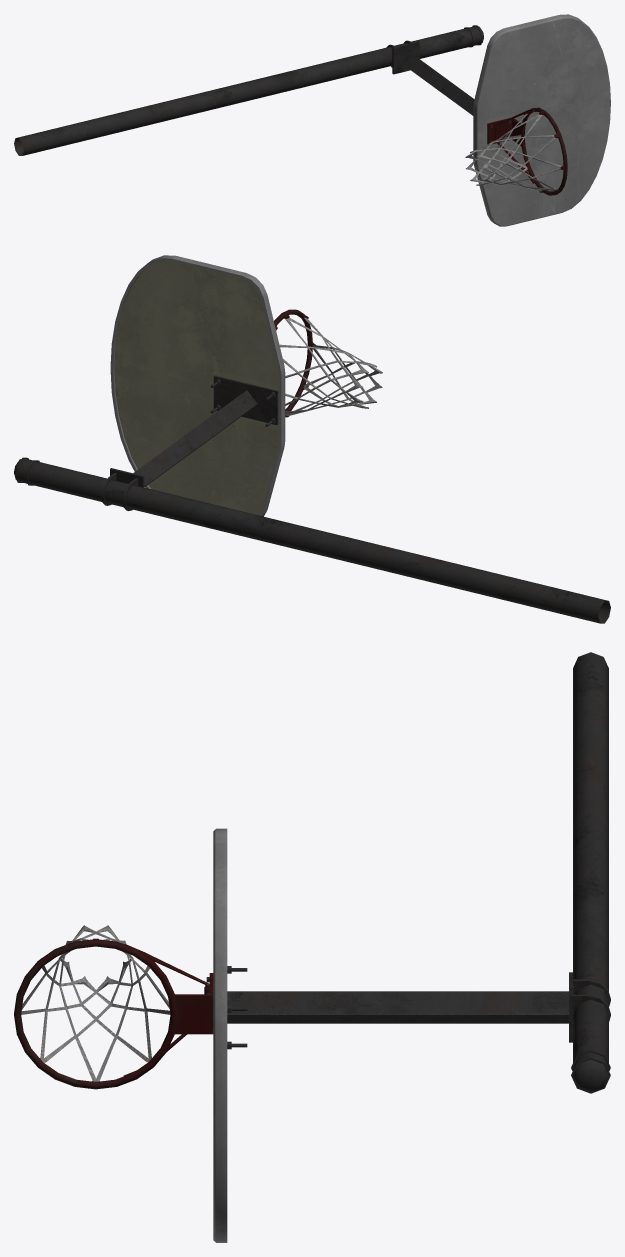
Rendered from cP_BasketballHoop_Var02.dae.
3 renders of one model, top to bottom at view 1: azimuth 30°, elevation 25°; view 2: azimuth 150°, elevation 25°; view 3: azimuth 270°, elevation 25°, orthographic. The views are drawn at different scales.
Visible parts, largest first — view 1: cP_BasketballHoop_Var02.001; view 2: cP_BasketballHoop_Var02.001; view 3: cP_BasketballHoop_Var02.001.
Boxes of the visible parts, x1,y1,x2,y2 form: cP_BasketballHoop_Var02.001: [14, 14, 610, 226]; cP_BasketballHoop_Var02.001: [14, 255, 610, 623]; cP_BasketballHoop_Var02.001: [14, 652, 610, 1242].
Size of the model in its own units: 4.09 by 2.37 by 1.56.
